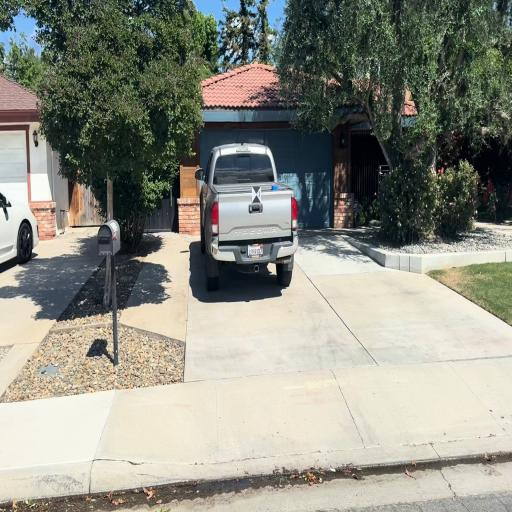target1: (252, 186, 261, 204)
